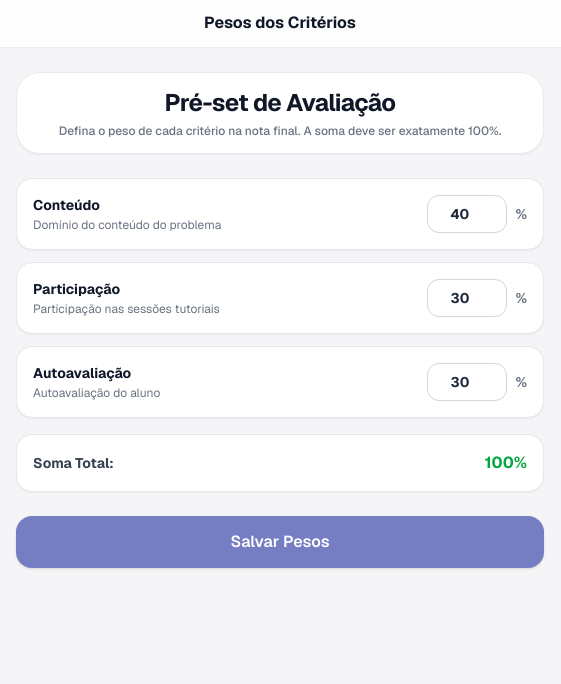
Test: [US08] Criteria weights page integration › [QA] should show a red 90% total, send it, and show the backend 422 message keeping the saved weights
Replace the text in the number field labelled "Autoavaliação" with "20" at (467, 382), box [427,363,507,401]
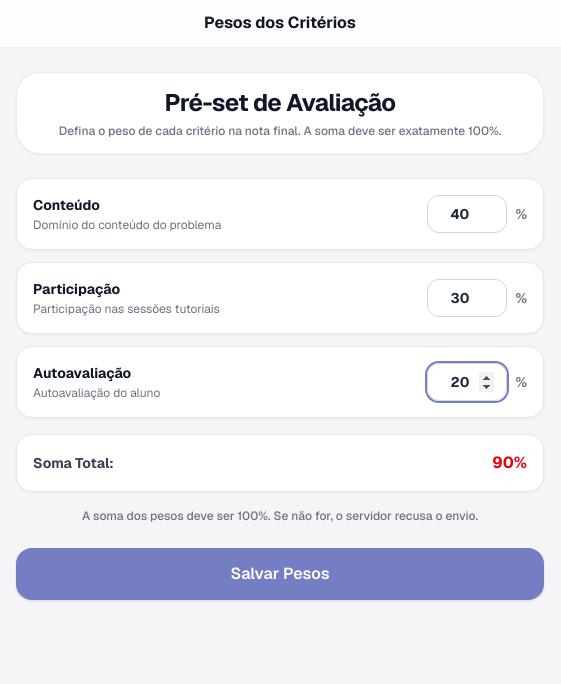
Click the button "Salvar Pesos" at (280, 574), box [16,548,544,600]
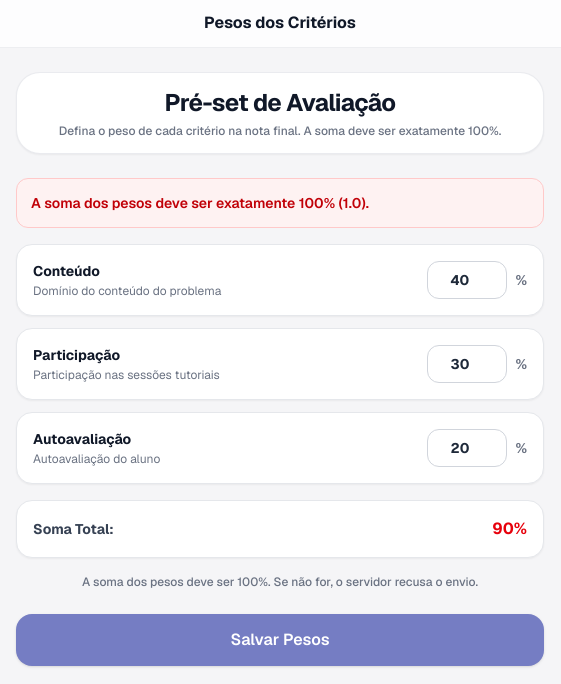
expect the message "A soma dos pesos deve ser exatamente 100% (1.0)." is shown: met, box [16,178,544,228]
